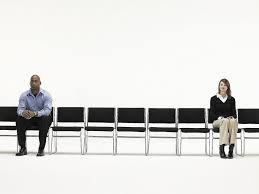Good: (15, 73, 237, 160)
